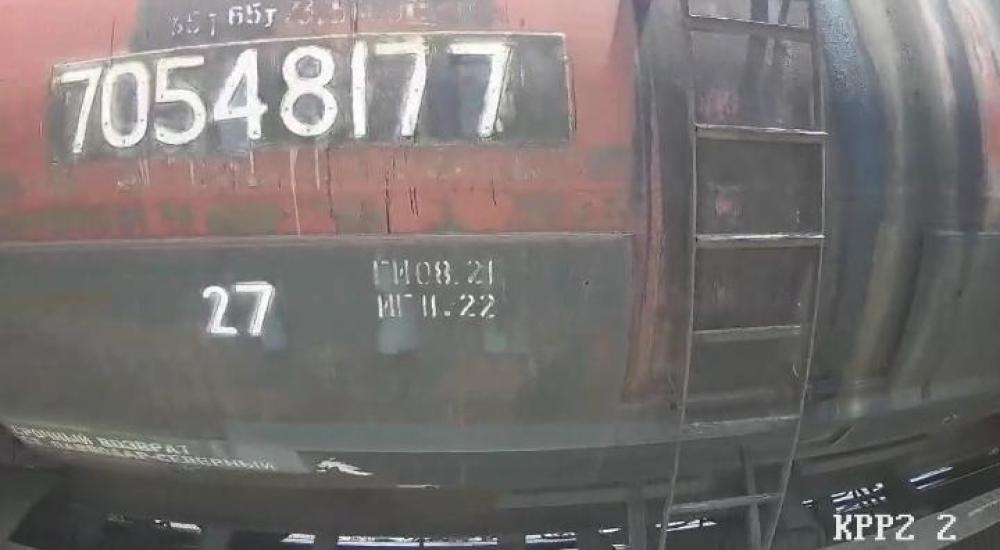Wagon-number: (58, 36, 519, 163)
